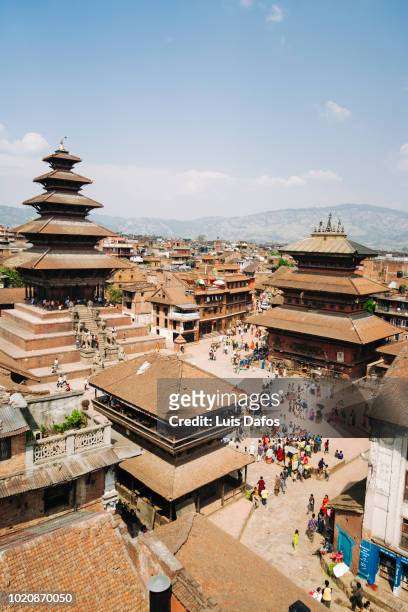nyathapola: (14, 134, 159, 396)
